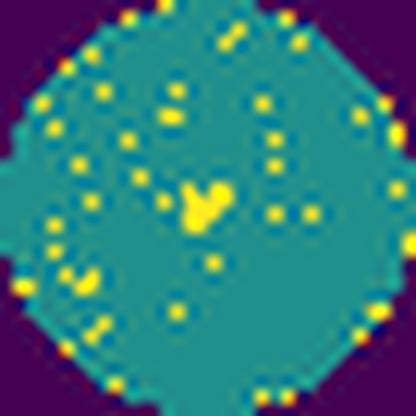Center: (182, 181, 233, 233)
